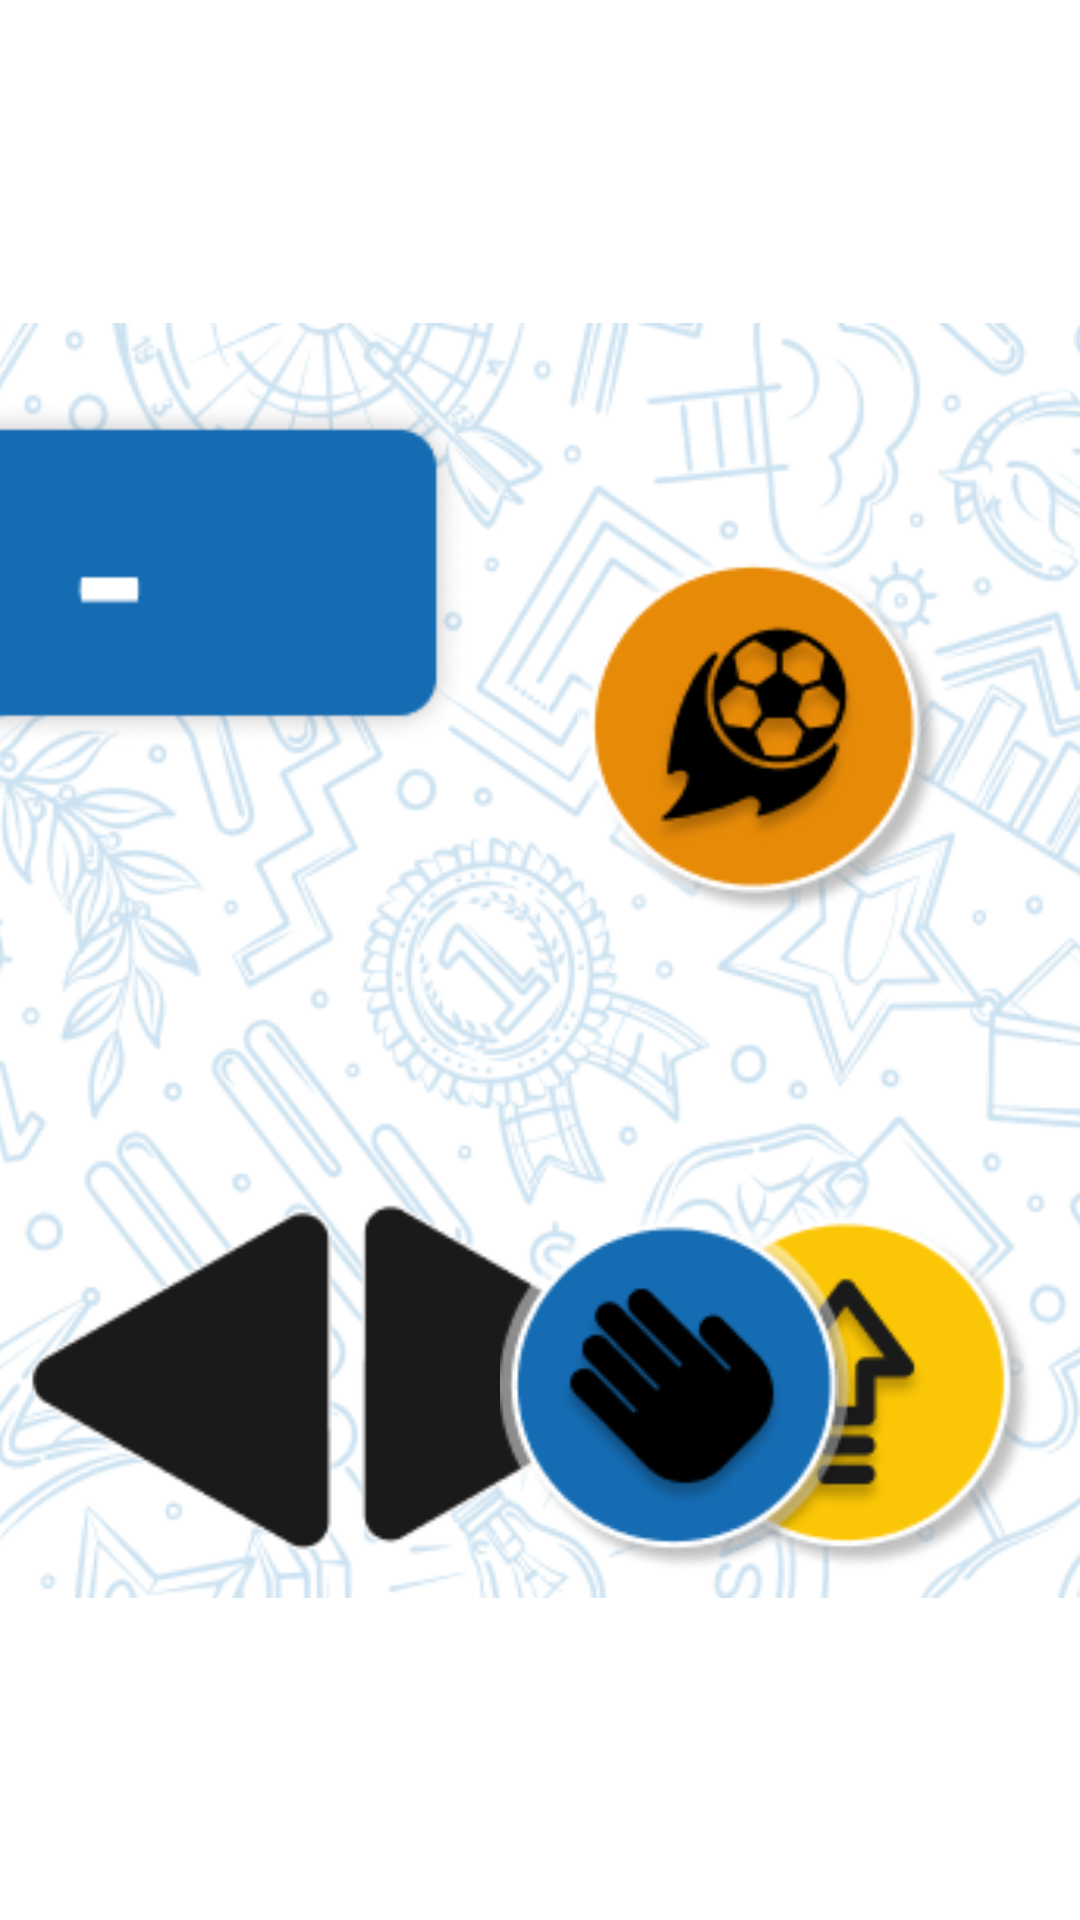

Screen size 1080x1920. Icon name, then its center in pixels as (x=x, y=y):
shoot: (x=759, y=731)
